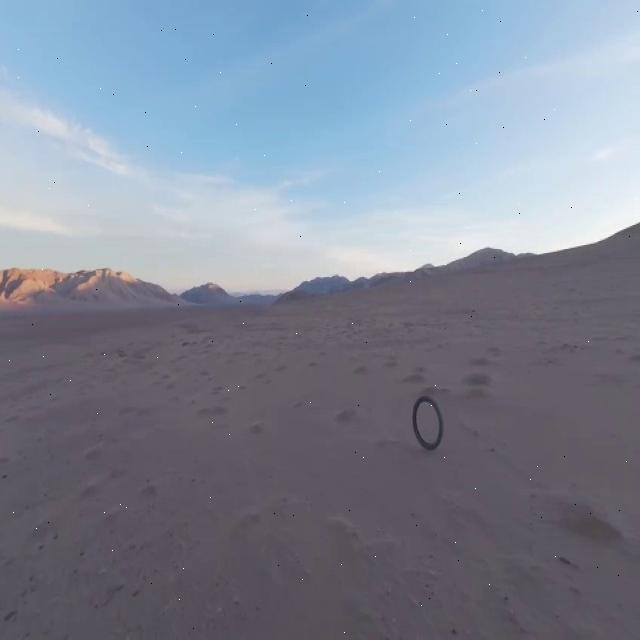Tire: (413, 396, 443, 449)
